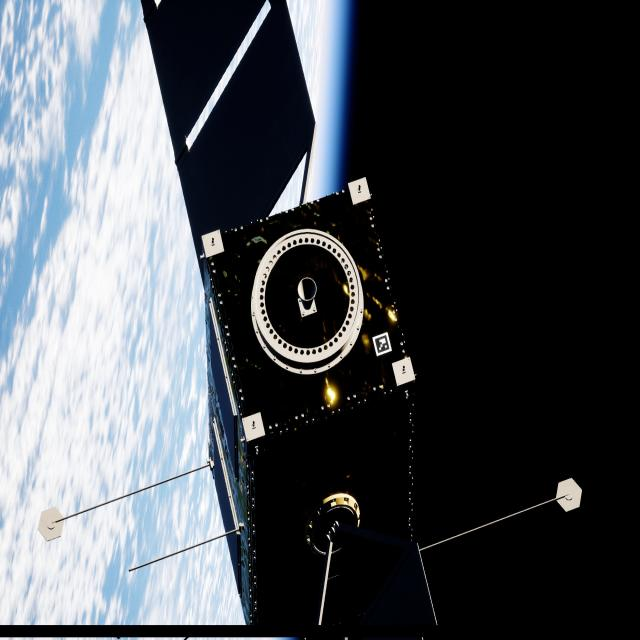medium_debris: (140, 0, 435, 640)
